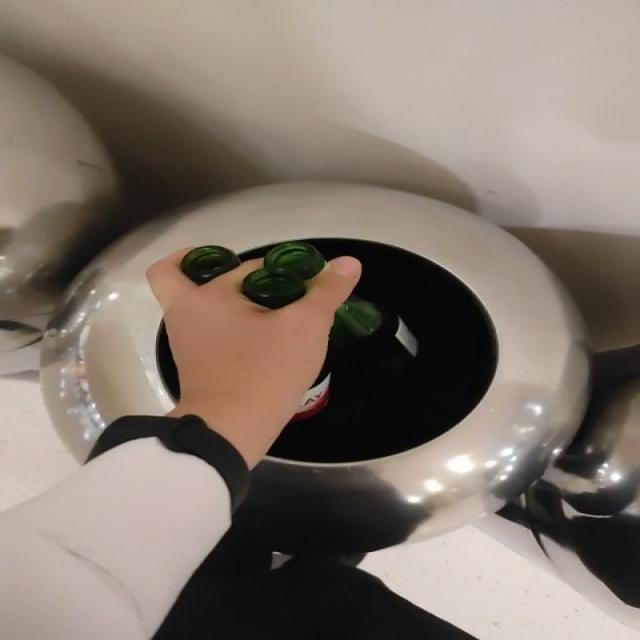bin: (40, 182, 591, 553)
glass: (293, 296, 420, 421), (241, 241, 327, 310), (181, 245, 240, 284)
